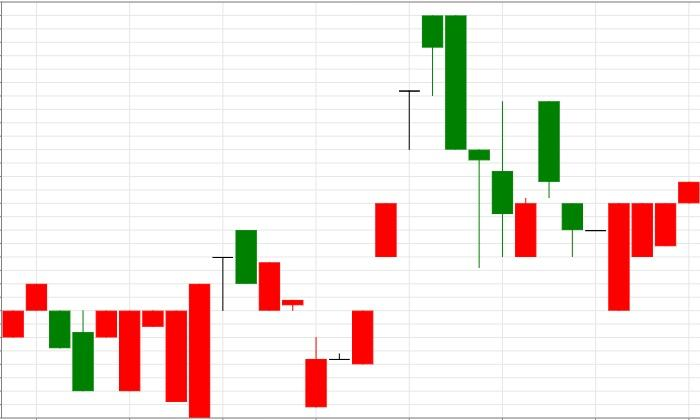hanging_man_fall: (305, 14, 443, 408)
